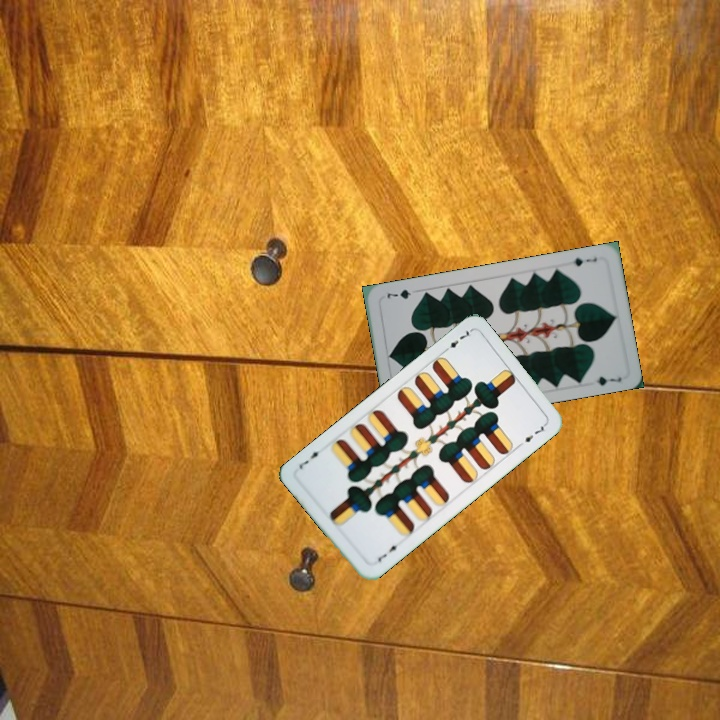E7: (439, 325, 474, 356), (373, 540, 403, 564)
G7: (564, 253, 599, 269)
